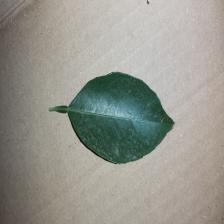healthy: (53, 74, 187, 173)
